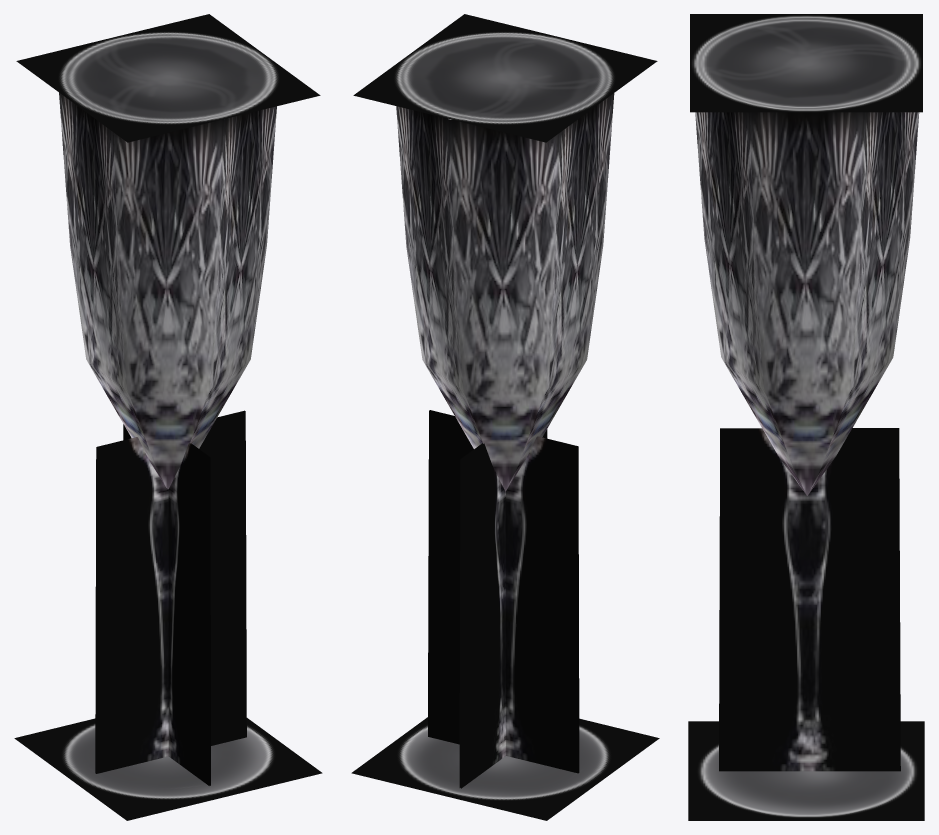
Rendered from Champaign_Flute.fbx.
3 views of the same model, side by side, from view 1: azimuth 30°, elevation 25°; view 2: azimuth 150°, elevation 25°; view 3: azimuth 270°, elevation 25° (orthographic). The views are drawn at different scales.
Visible parts, largest first — view 1: Champaign_flute_LOD0; view 2: Champaign_flute_LOD0; view 3: Champaign_flute_LOD0.
Boxes of the visible parts, <box> form: Champaign_flute_LOD0: <box>14,14,322,820</box>; Champaign_flute_LOD0: <box>351,14,659,820</box>; Champaign_flute_LOD0: <box>688,14,924,820</box>.
Size of what is drawn, in the model's own units: 17.6 by 58.59 by 17.6.
